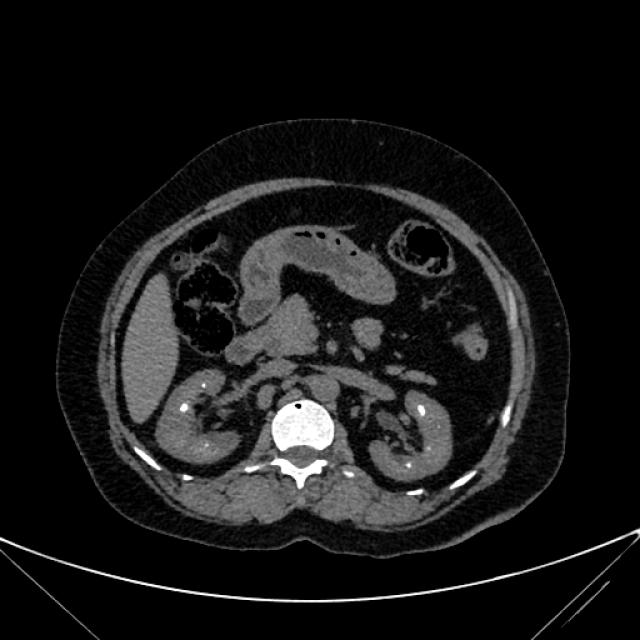kidney: (163, 374, 236, 463), (373, 396, 442, 478)
stone: (418, 402, 425, 416), (180, 402, 188, 412), (407, 462, 412, 468), (201, 384, 206, 389), (205, 442, 209, 448), (428, 446, 430, 449)
